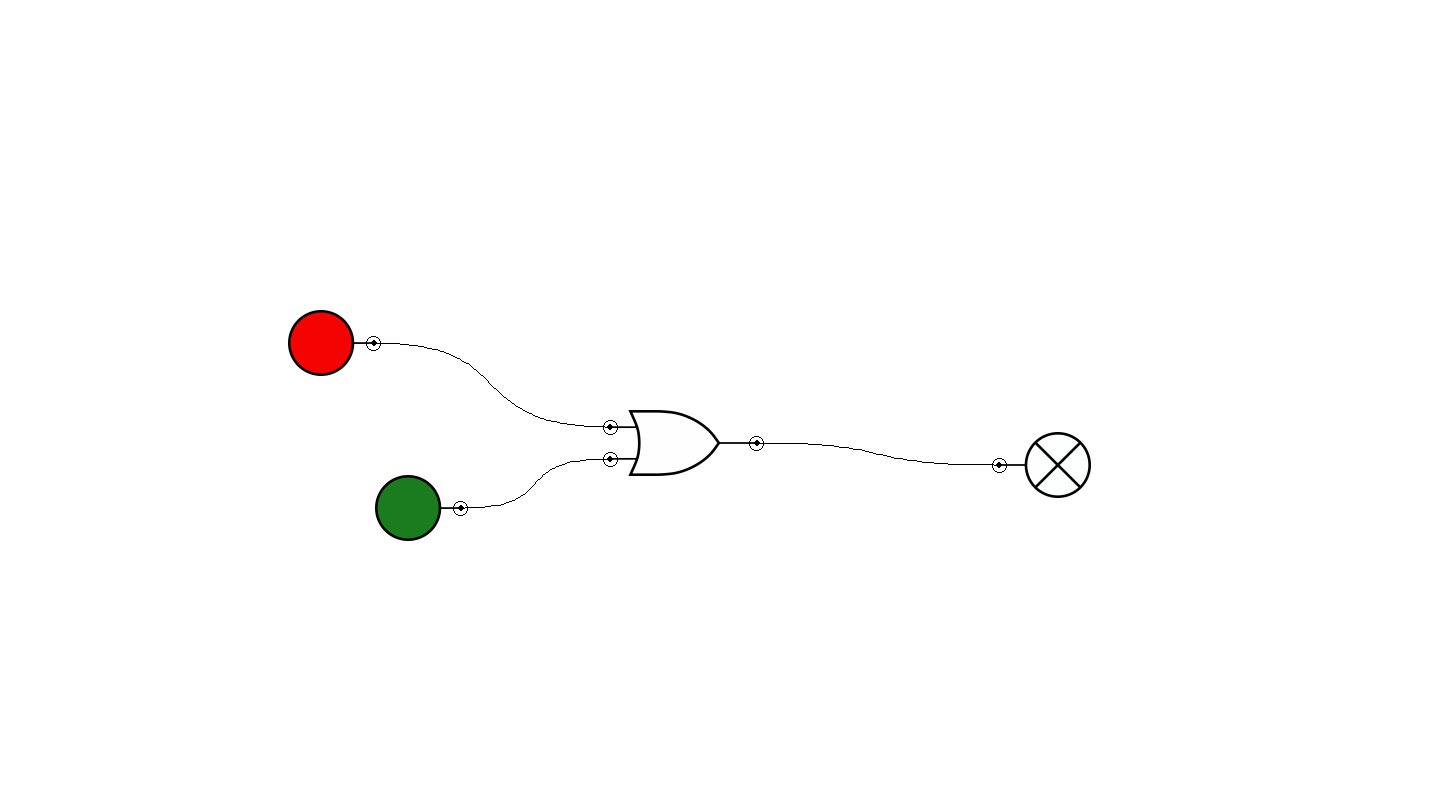bulb: (992, 432, 1091, 498)
or: (603, 410, 764, 476)
switch_False: (288, 310, 381, 376)
switch_True: (375, 475, 468, 541)
